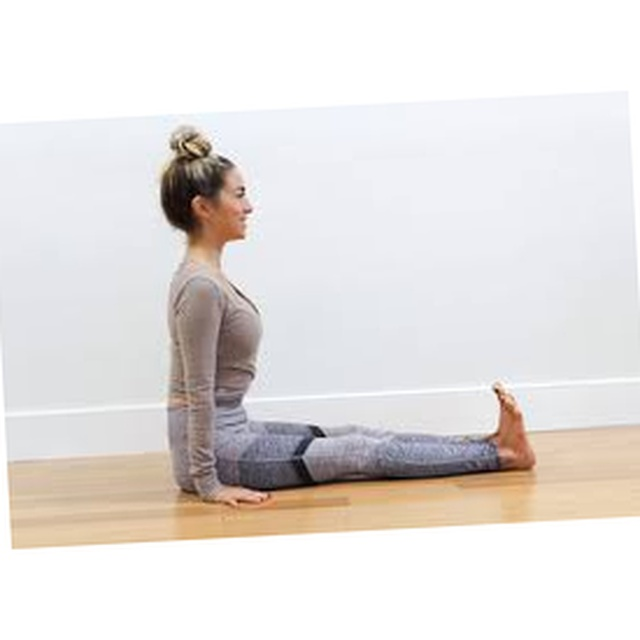Staff_Pose: (158, 123, 538, 511)
